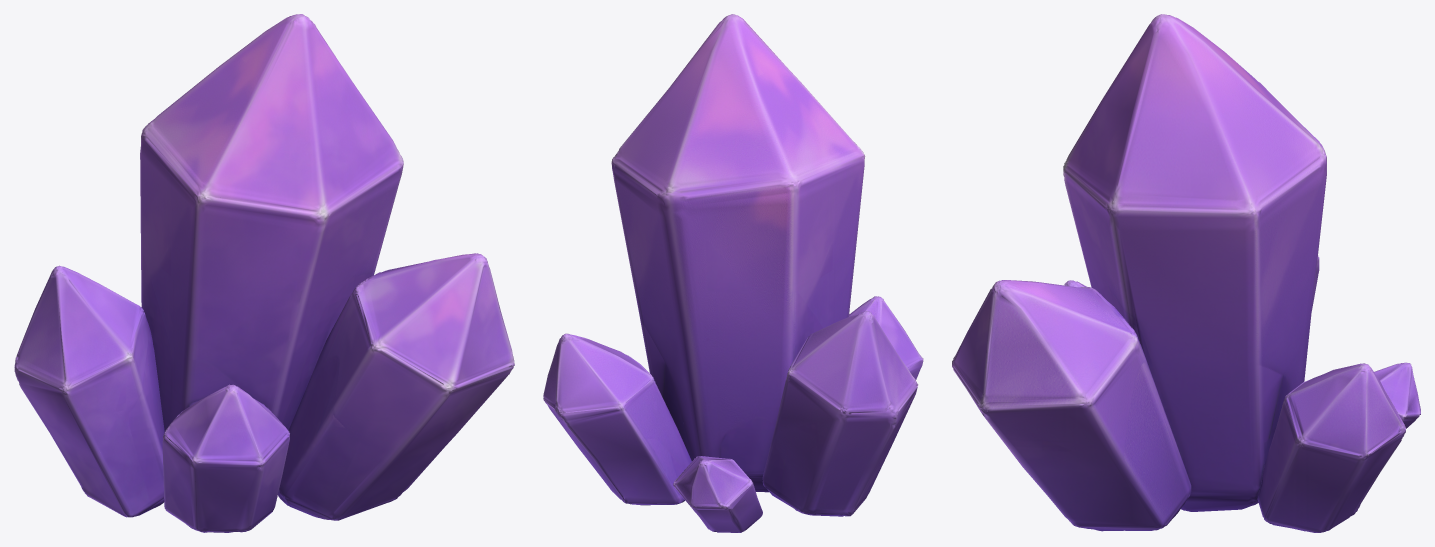
Rendered from mem_ac_crystal.fbx.
3 renders of one model, left to right at view 1: azimuth 30°, elevation 25°; view 2: azimuth 150°, elevation 25°; view 3: azimuth 270°, elevation 25°, orthographic. The views are drawn at different scales.
Parts seen in each view (by area): view 1: tripo_node_ba212cb8; view 2: tripo_node_ba212cb8; view 3: tripo_node_ba212cb8.
Boxes of the visible parts, <box> form: tripo_node_ba212cb8: <box>14,14,514,532</box>; tripo_node_ba212cb8: <box>543,14,923,532</box>; tripo_node_ba212cb8: <box>952,14,1420,532</box>.
Bounding box in the file's own units: 0.8301 × 0.998 × 0.8574.
